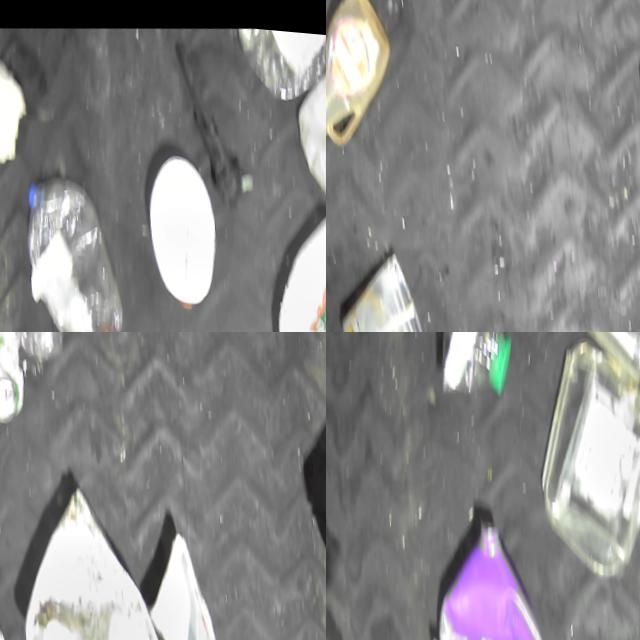can: (578, 332, 640, 381), (0, 332, 28, 419)
milk_jug: (287, 25, 326, 207)
non_white_jug: (418, 501, 560, 640), (326, 0, 402, 160)
plastic_bottle: (17, 165, 129, 332), (425, 332, 519, 403)
